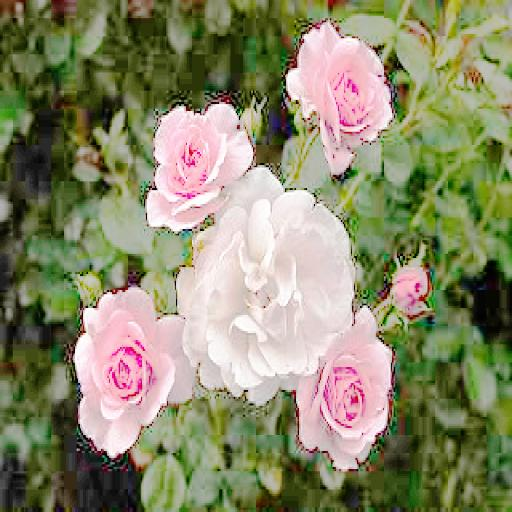rose: (179, 168, 357, 398), (75, 286, 187, 456), (298, 308, 387, 465), (147, 97, 251, 231), (288, 25, 394, 136)
